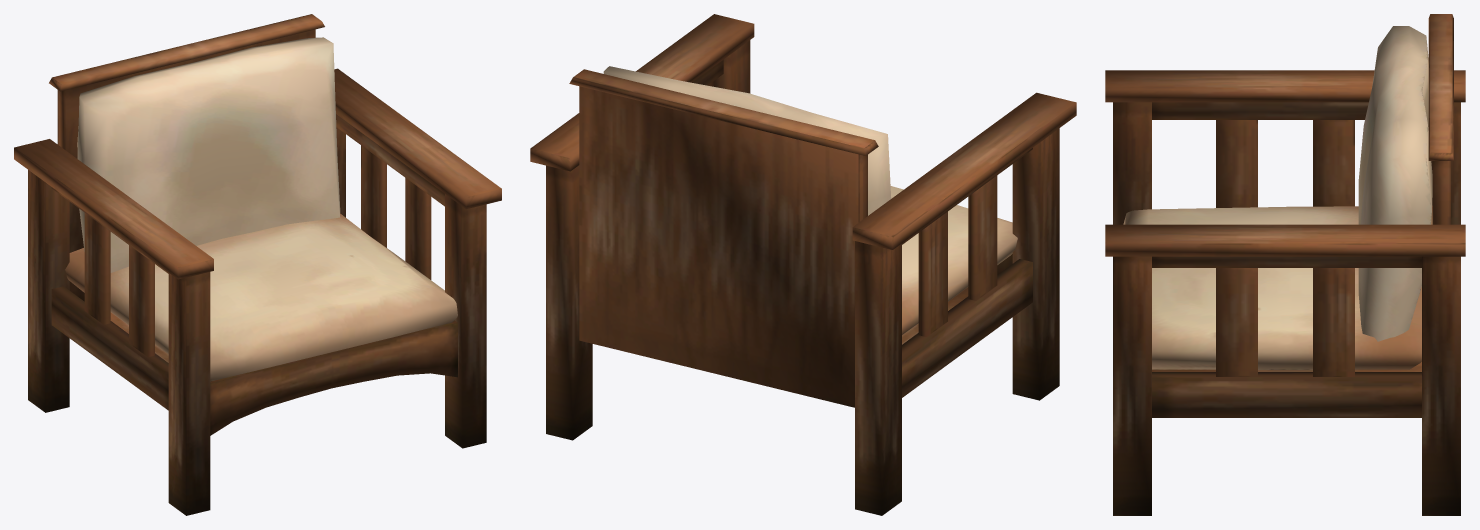
The model's file is product_1.obj.
3 views of the same model, side by side, from view 1: azimuth 30°, elevation 25°; view 2: azimuth 150°, elevation 25°; view 3: azimuth 270°, elevation 25° (orthographic). The views are drawn at different scales.
Bounding box in the file's own units: 0.0377 × 0.0356 × 0.0331.
